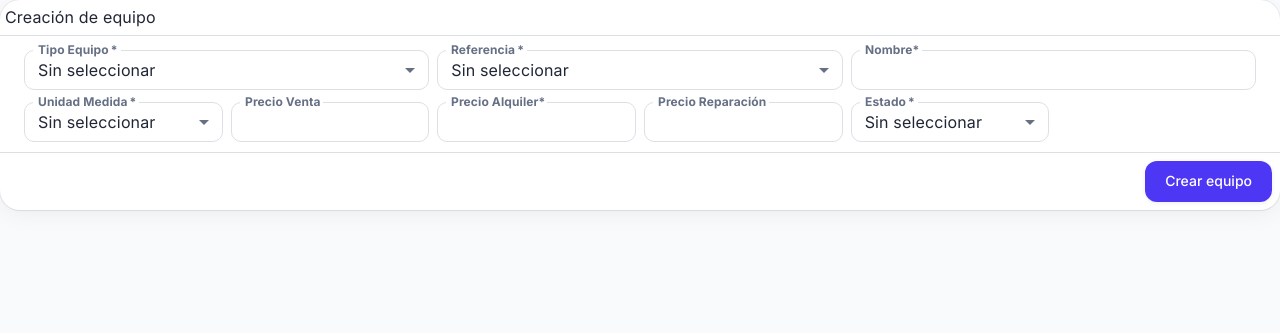
FormularioCrearEquipo › solo ofrece los estados Disponible / No disponible / Reparación
Step 1. Click the dropdown labelled "Sin seleccionar" next to "Estado" → (923, 122), box [865,112,982,132]
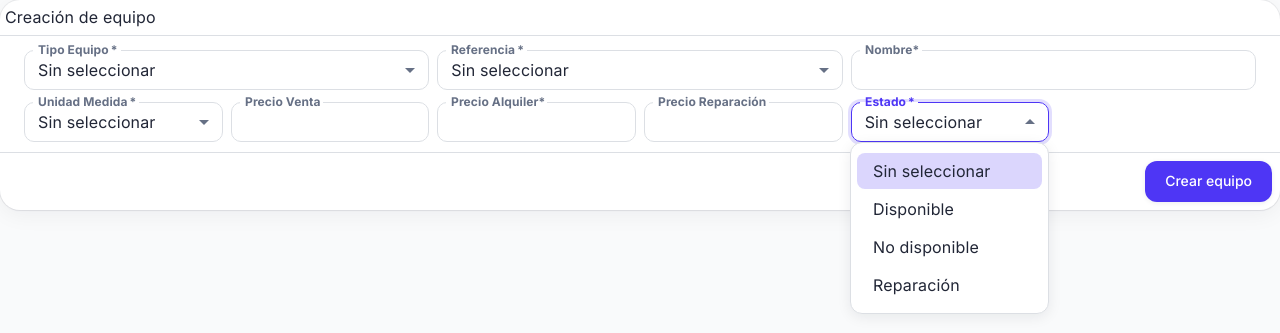
Check: the options read "Sin seleccionar", "Disponible", "No disponible", " Reparación ", in this order, box [857,153,1042,189]; [873,199,954,219]; [873,237,979,257]; [873,275,960,295]
